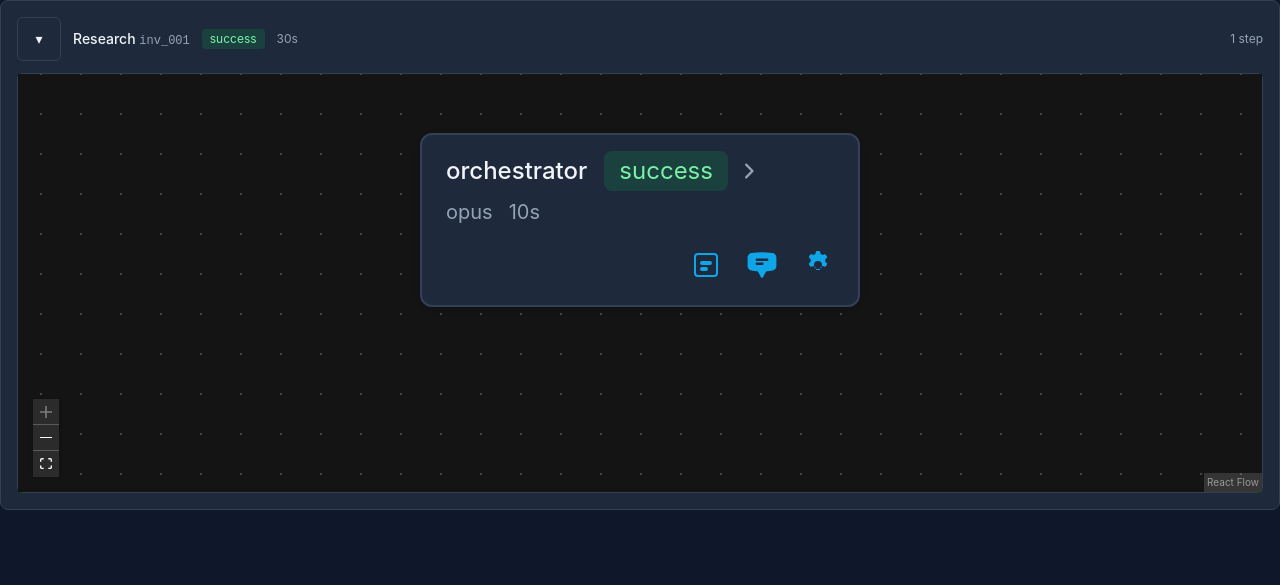
Test: InvocationCard › scrolls the stream panel into view with block nearest when a step is selected
Expected: the element with test id "workflow-node-orchestrator" is shown, [420,133,860,308]
Click the button with aria-label "Show activity of orchestrator": (640, 184) [422,135,858,234]
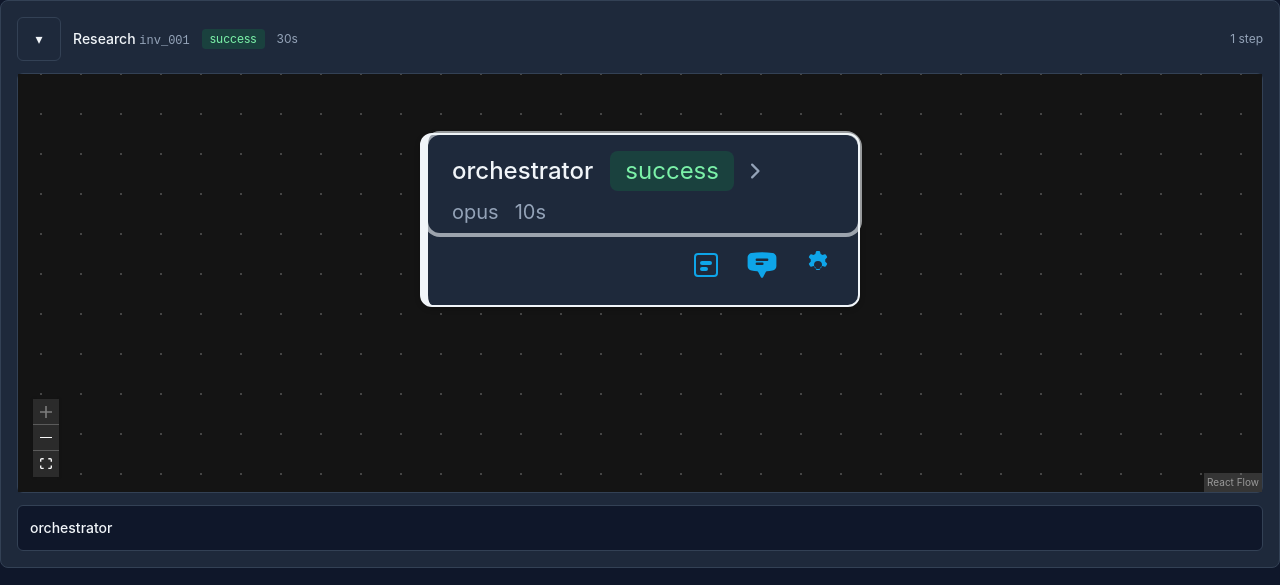
Now the element with test id "stream-panel" is shown, box [17,505,1263,551]
